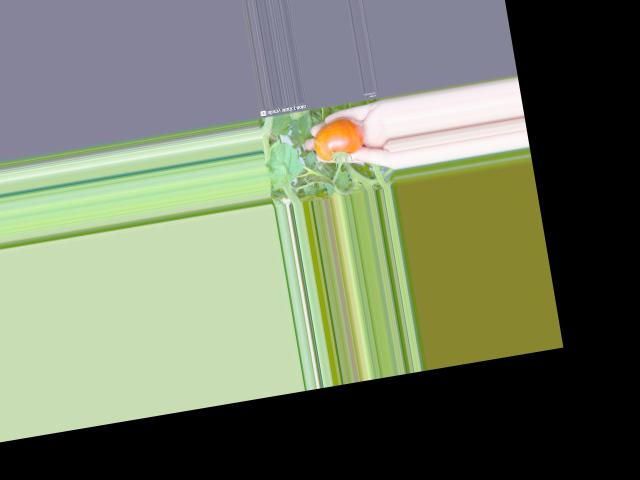tomato: (311, 115, 367, 162)
